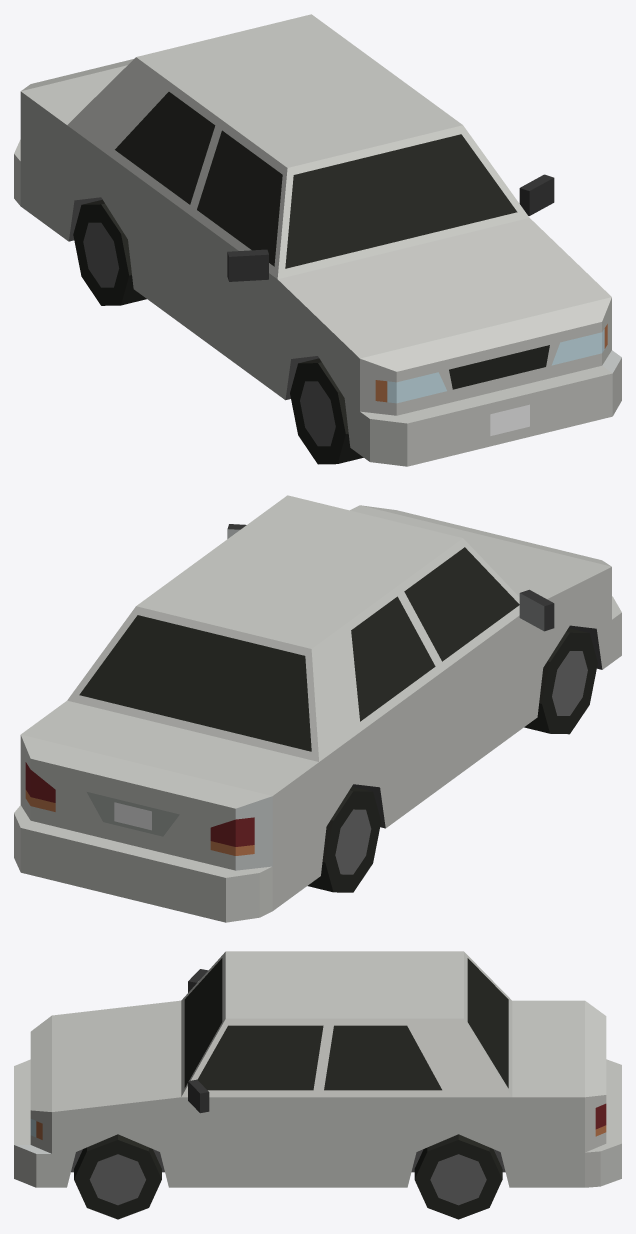
File: Veh_Sedan_01_White.obj
3 renders of one model, top to bottom at view 1: azimuth 30°, elevation 25°; view 2: azimuth 150°, elevation 25°; view 3: azimuth 270°, elevation 25°, orthographic. The views are drawn at different scales.
Size of the model in its own units: 1.22 by 0.852 by 2.52.
